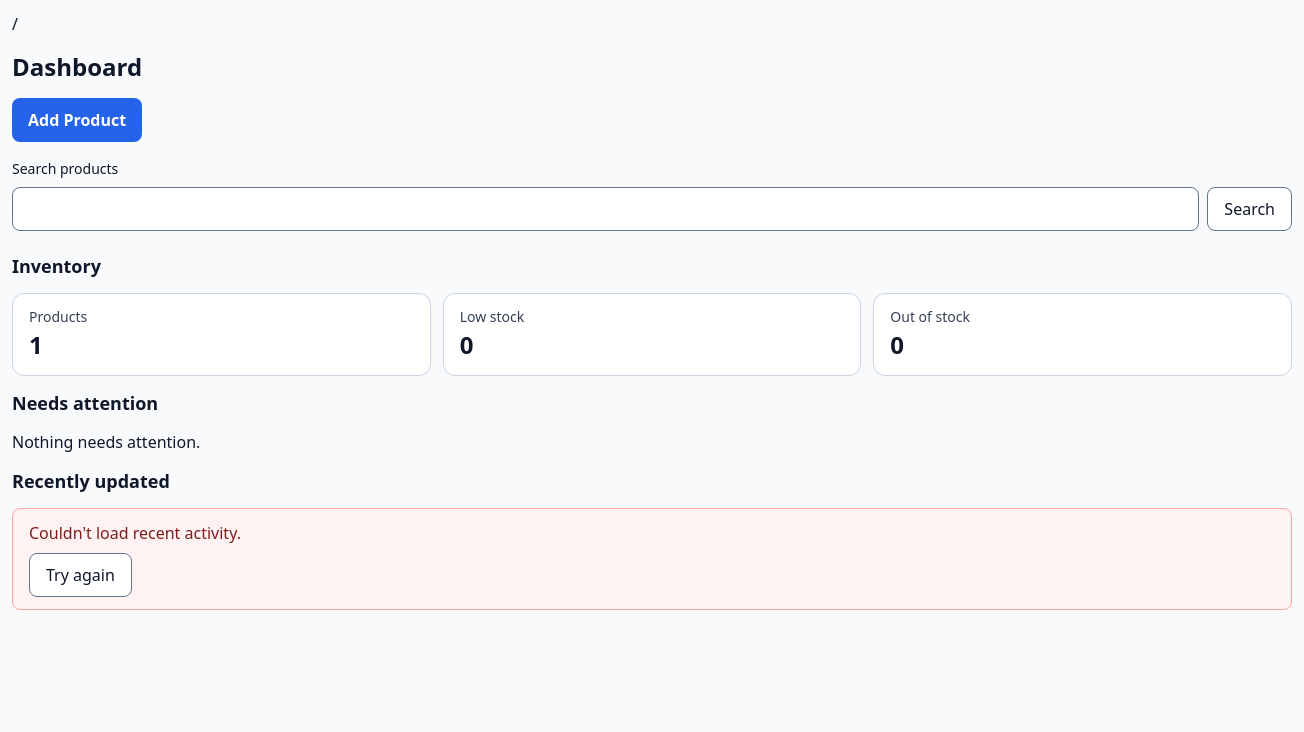
DashboardPage › error and retry › retrying a failed activity section does not reload the inventory
expect the text "Products" is shown: met, box [29,307,87,326]
Click the button "Try again": (80, 574) [29,552,132,596]
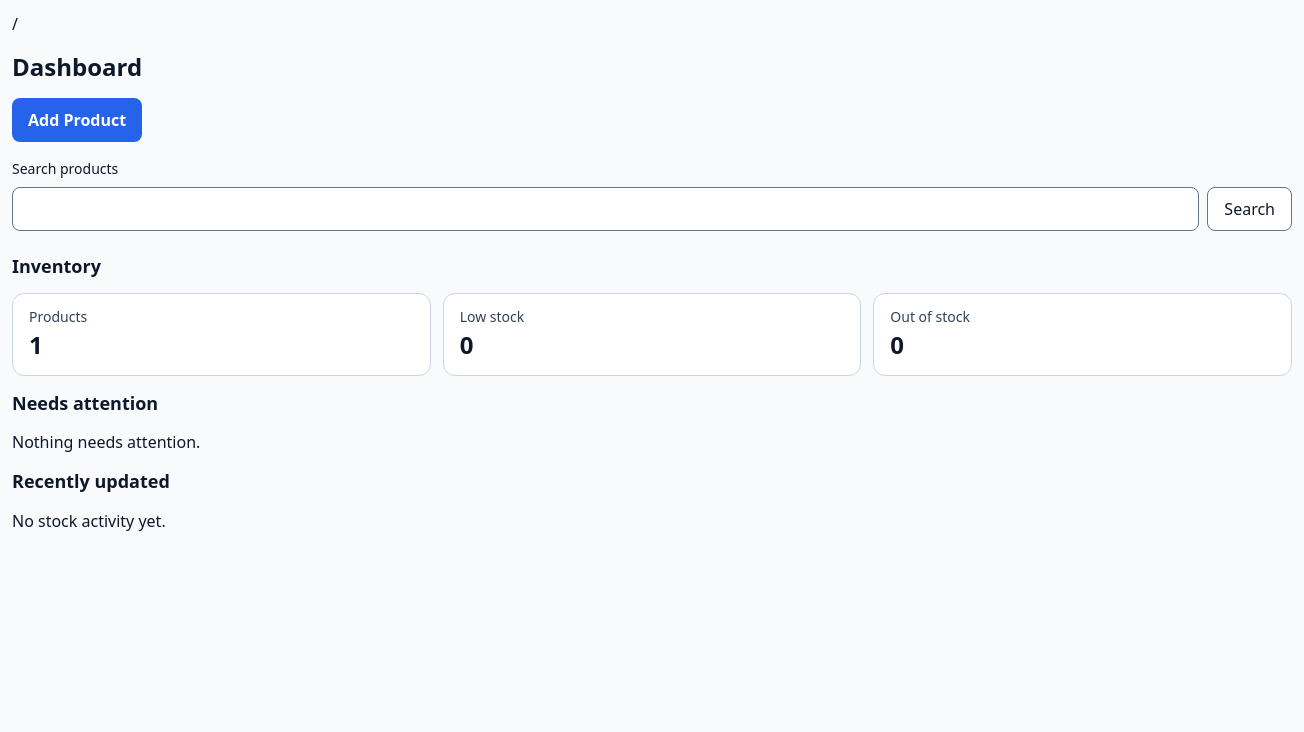
expect the text "No stock activity yet." is shown: met, box [12,510,166,532]
